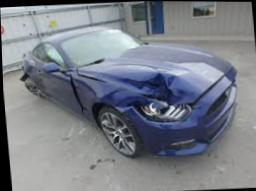Bonnet: (95, 59, 205, 107)
Door: (38, 61, 84, 118)
Fender: (70, 68, 145, 124), (22, 55, 37, 83)
Light: (136, 98, 190, 124)
